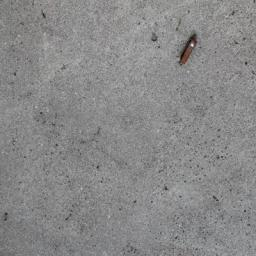FOD: (178, 33, 201, 70)
